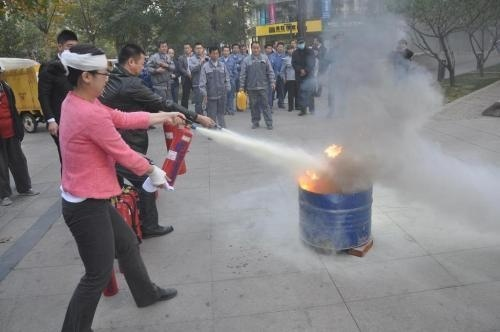fire: (297, 168, 320, 190), (324, 141, 342, 156)
